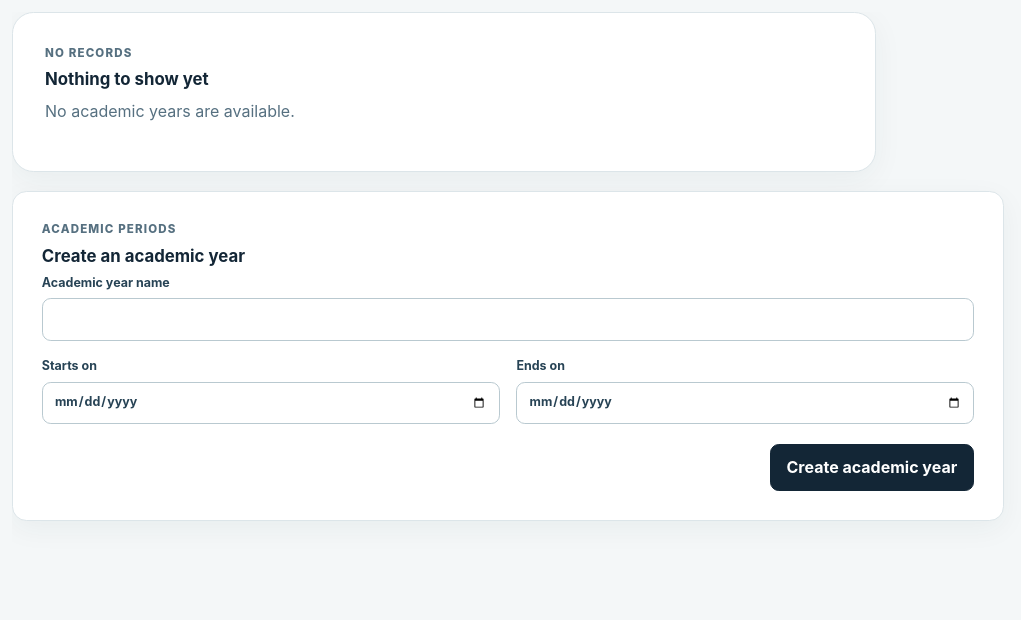
Test case: AcademicYearAdministration › creates an academic year with plain calendar dates
This screenshot has width=1021, height=620.
Type "2026/2027" into the field labelled "Academic year name" at (508,319), box x1=42 y1=298 x2=974 y2=341
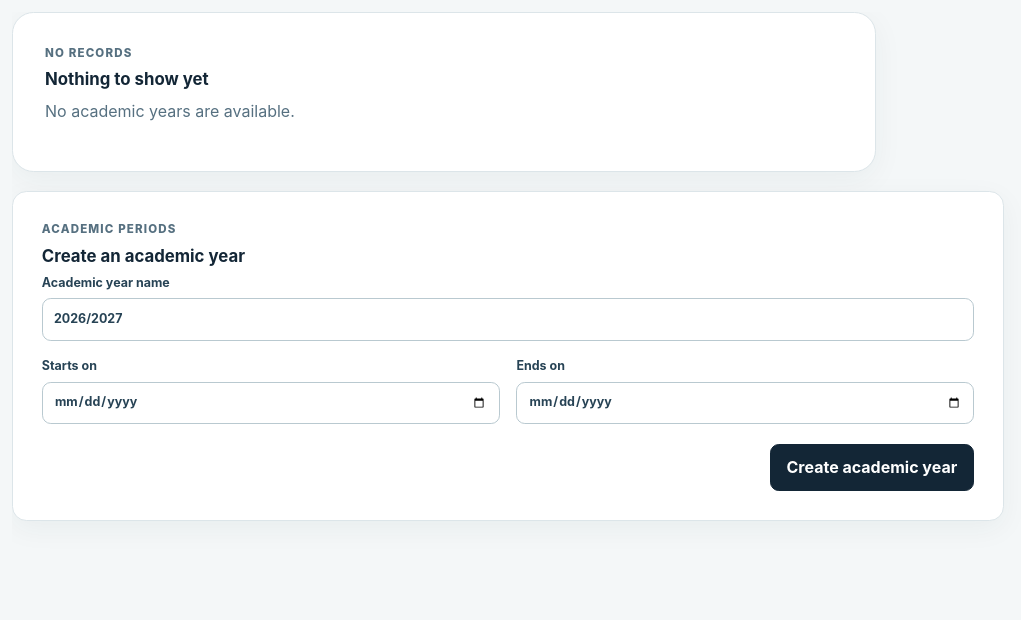
Type "2026-09-01" into the date field labelled "Starts on" at (271,403), box x1=42 y1=382 x2=500 y2=424
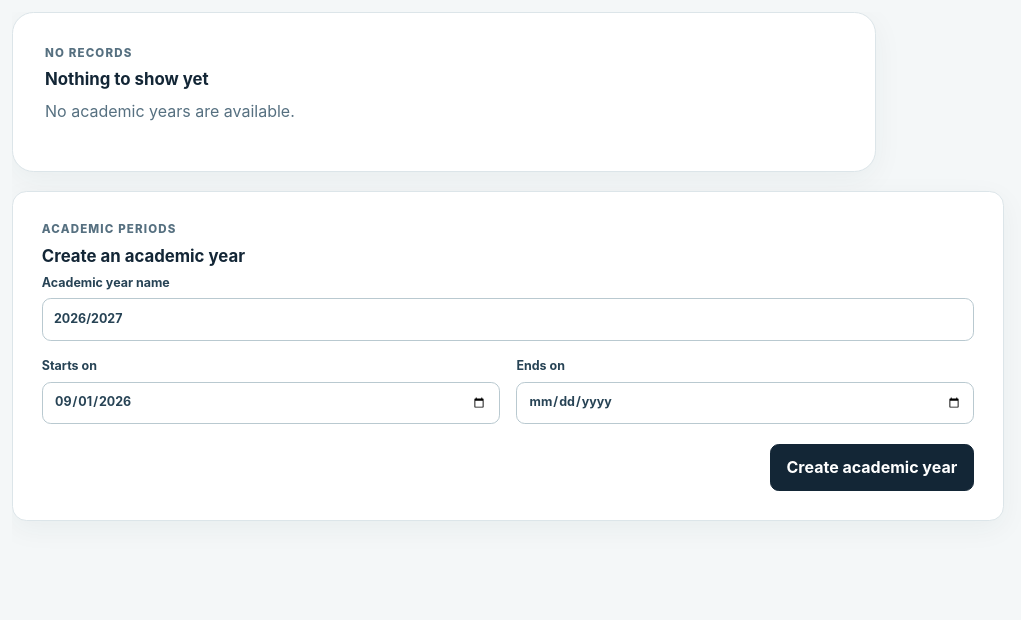
Type "2027-06-30" into the date field labelled "Ends on" at (745,403), box x1=516 y1=382 x2=974 y2=424
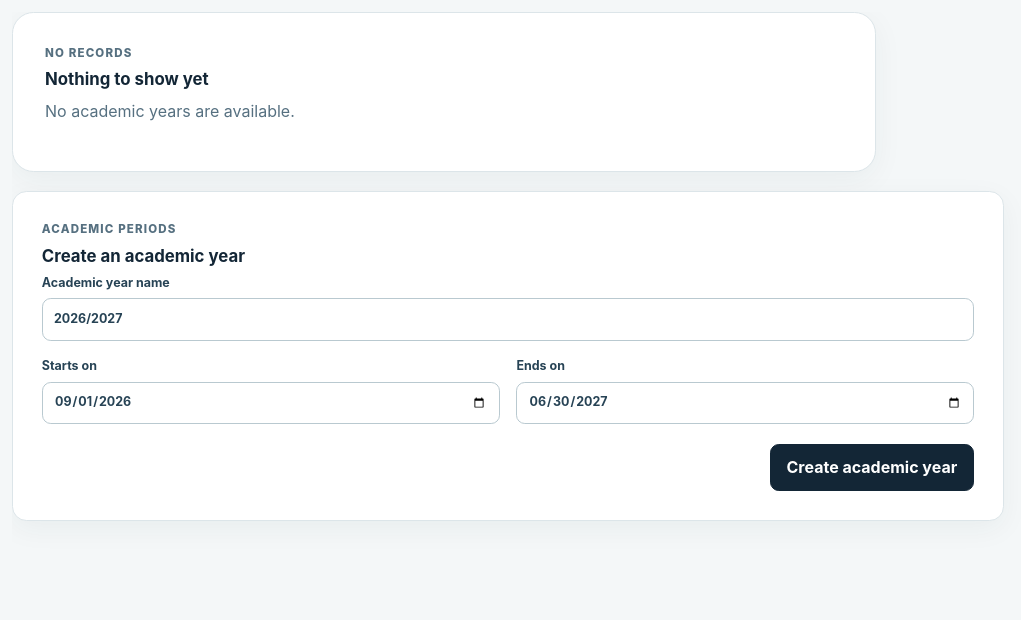
Click the button "Create academic year" at (872,467), box x1=770 y1=444 x2=974 y2=491
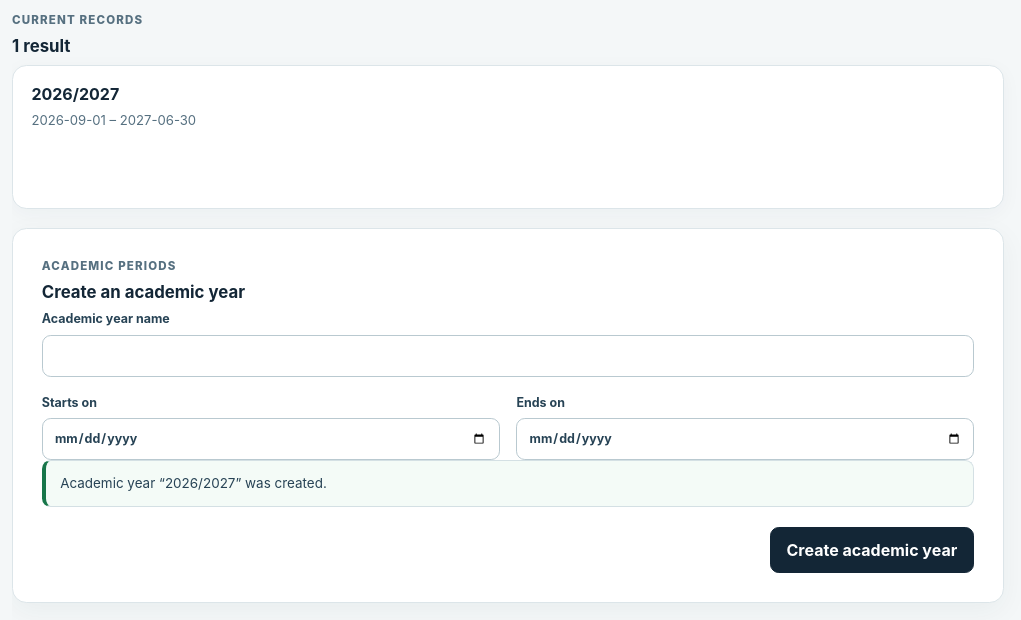
Check: the text "Academic year “2026/2027” was created." is shown, box x1=42 y1=460 x2=974 y2=507
Check: the text "2026-09-01 – 2027-06-30" is shown, box x1=31 y1=111 x2=196 y2=131
